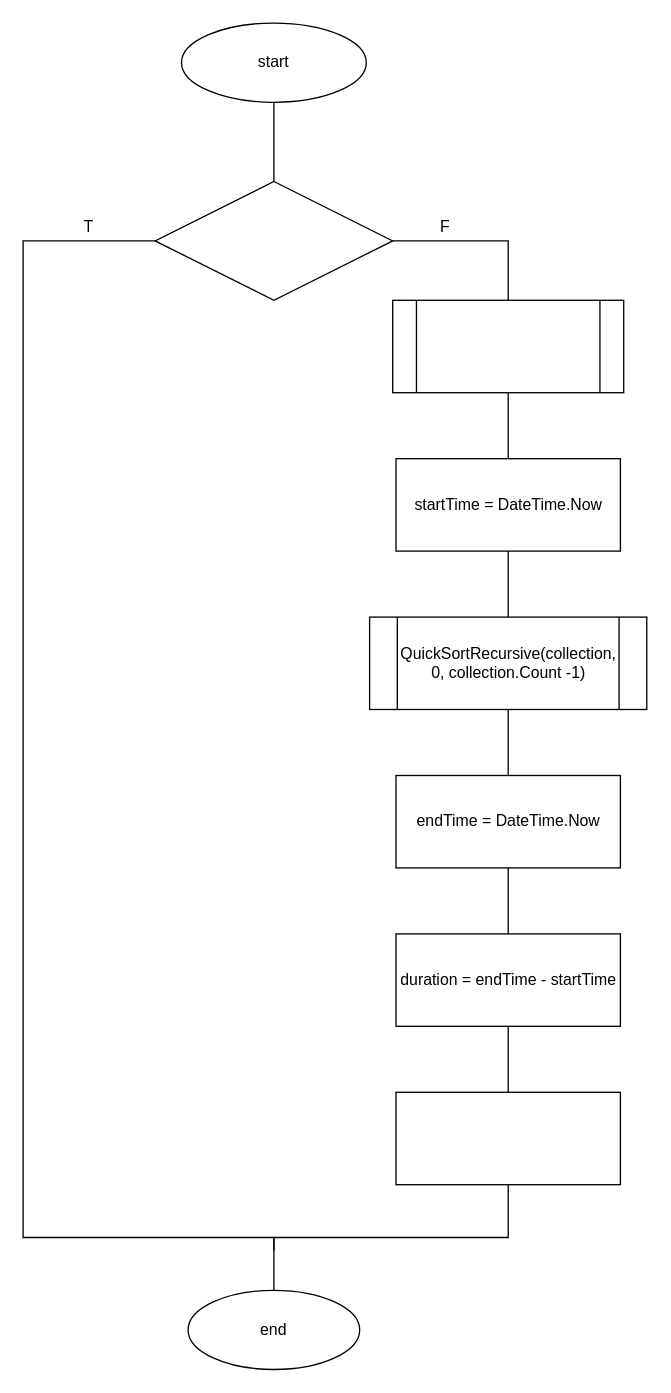
This 671x1393 diagram has some shape labels left out. The shapes that lost their labels are listed below. From the top down, each one's centre as x and y in pixels, then its label:
At pixel 273 240: "collection.Count <= 1".
At pixel 507 346: "Stats.Reset()".
At pixel 507 1138: "Stats.ExecutionTimeMs = duration.TotalMiliseconds".
